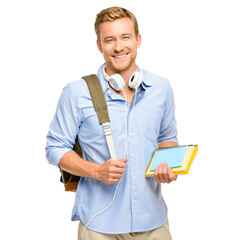young: (86, 6, 144, 77)
